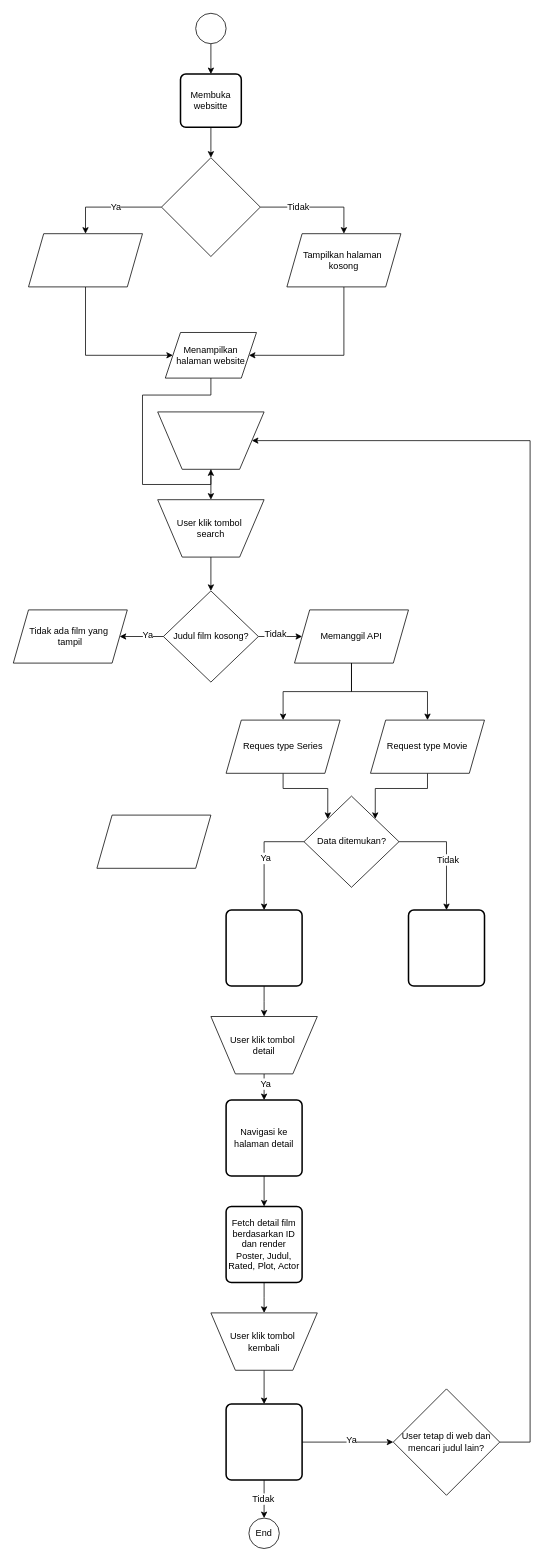
Image size: 549x1562. Some labels were removed from this diagram. Each missing label, with the box of its shape:
Ada data di session storage?: (161, 157, 260, 256)
Navigasi ke home dan restore session storage: (225, 1403, 302, 1480)
Simpan data ke session storage: (96, 814, 211, 868)
Start: (195, 13, 226, 44)
Tampilkan film di section 1 dan section 2: (225, 909, 302, 986)
Tampilkan pencarian terakhir: (28, 233, 142, 287)
Tampilkan pesan "Data tidak ditemukan": (407, 909, 485, 986)
User memasukkan judul film: (157, 411, 264, 469)
